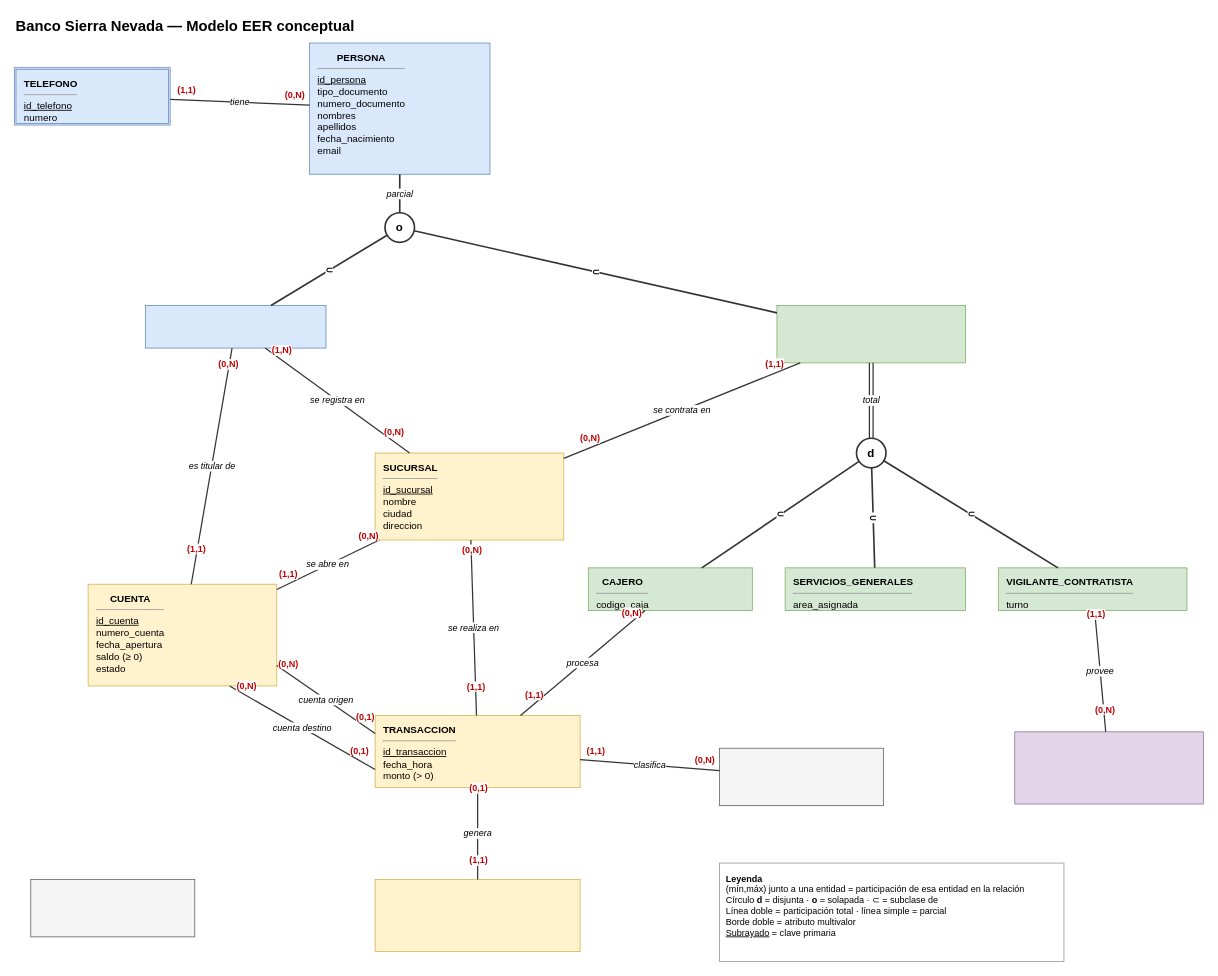
The diagram is 1218 pixels wide and 976 high, and some of its shapes have lost their labels. The centre of each missing label's shape, as x and y in pixels:
CLIENTE fecha_registro: [235,326]
EMPLEADO fecha_contratacion tipo_empleado: [871,334]
EMPRESA_SEGURIDAD id_empresa nit razon_social: [1108,767]
IMPUESTO_TRANSACCION base_gravable tarifa (0.004) valor: [477,915]
SALARIO_MINIMO anio valor: [112,908]
TIPO_TRANSACCION id_tipo nombre: [801,776]
